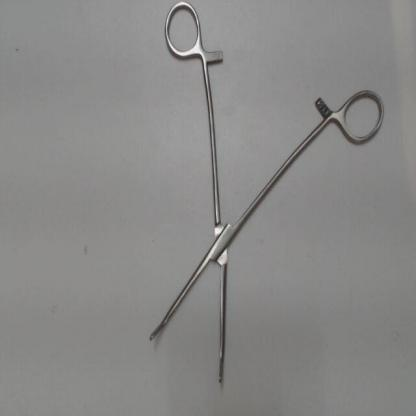Lahey Forceps: (137, 1, 393, 392)
